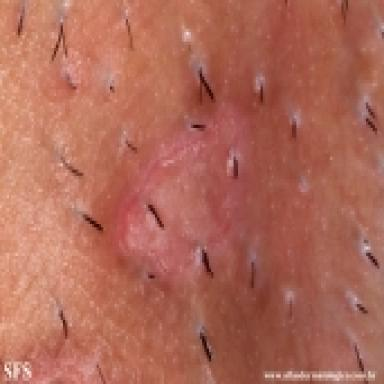Porokeratosis: (116, 110, 242, 279)
